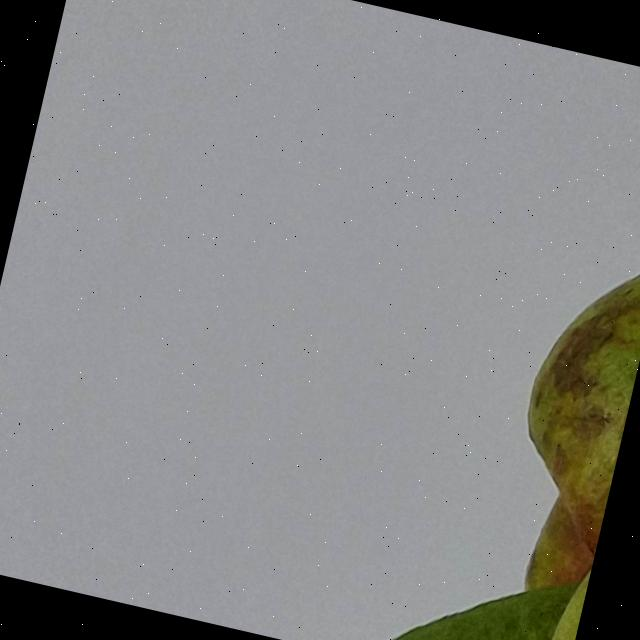mangosteen: (282, 16, 640, 640)
